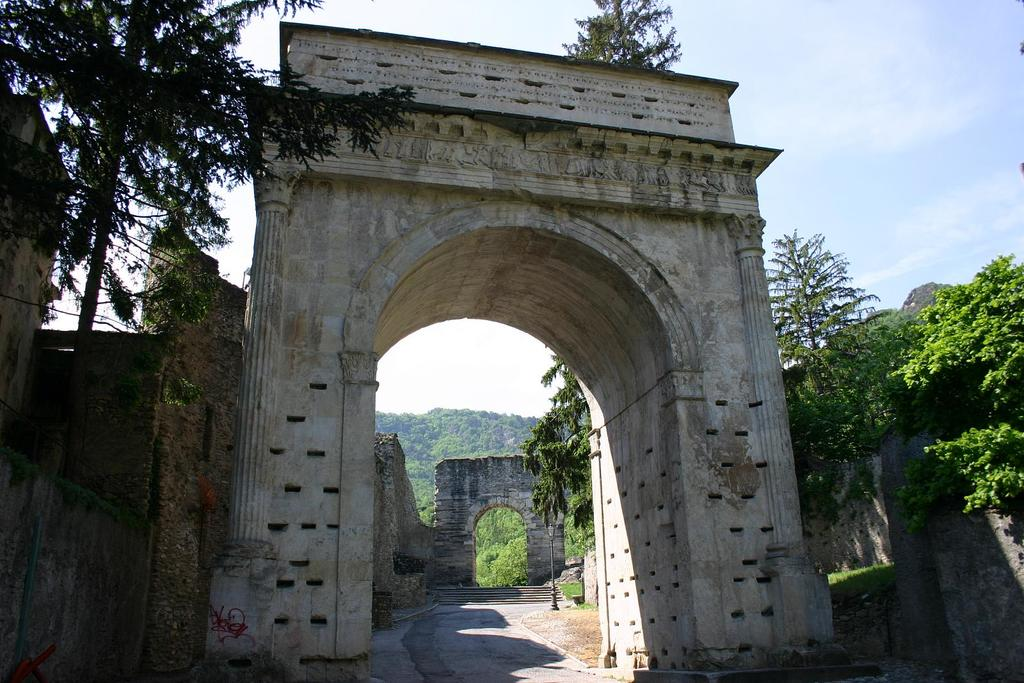Tree: (0, 0, 418, 483), (520, 0, 682, 602)
